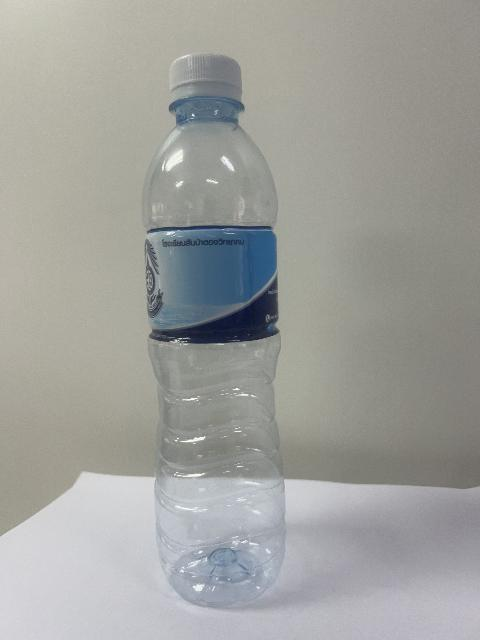bottle: (143, 54, 285, 605)
